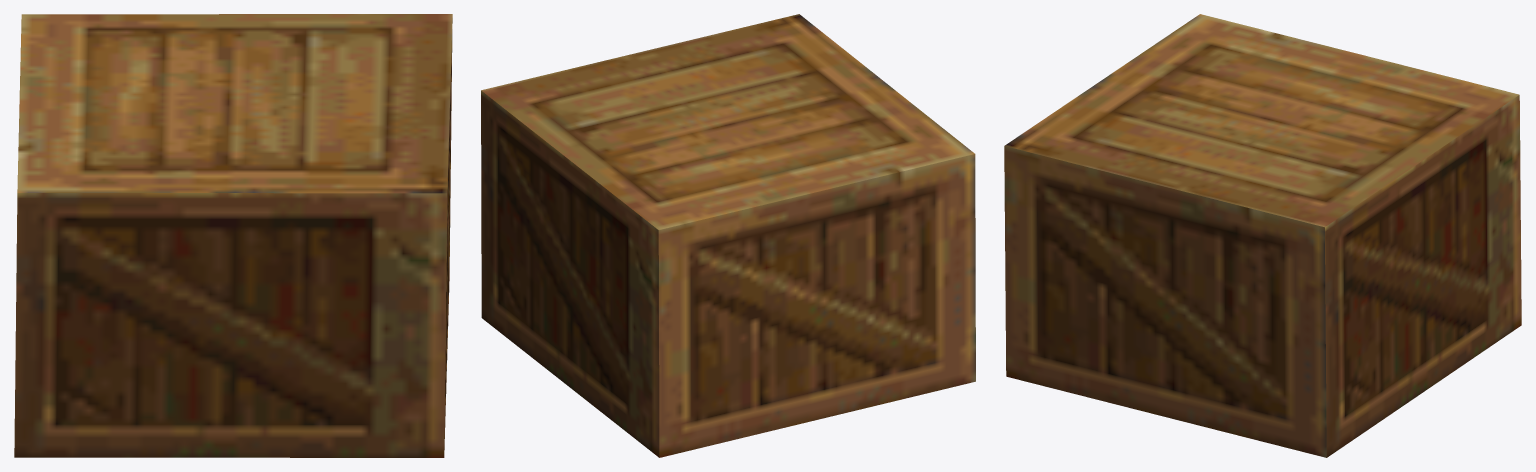
Rendered from xs__Item_xiangzi_1.FBX.
3 renders of one model, left to right at view 1: azimuth 30°, elevation 25°; view 2: azimuth 150°, elevation 25°; view 3: azimuth 270°, elevation 25°, orthographic. The views are drawn at different scales.
Parts seen in each view (by area): view 1: xs__Item_xiangzi_1; view 2: xs__Item_xiangzi_1; view 3: xs__Item_xiangzi_1.
Part boxes in pixels (x1,y1,x2,y2): xs__Item_xiangzi_1: [14, 14, 452, 457]; xs__Item_xiangzi_1: [481, 14, 975, 457]; xs__Item_xiangzi_1: [1004, 14, 1521, 457].
Size of the model in its own units: 74.67 by 37.89 by 75.32.
